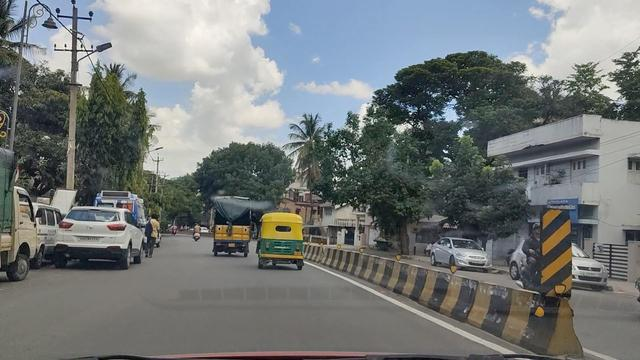HMV: (217, 196, 250, 254)
LMV: (52, 208, 141, 268), (261, 212, 299, 272)
